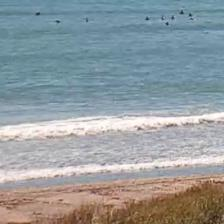surfer: (188, 17, 199, 21), (179, 9, 186, 15), (84, 17, 90, 23), (54, 19, 61, 24), (164, 22, 170, 27), (160, 15, 166, 20), (144, 16, 150, 21), (35, 12, 42, 16), (171, 15, 176, 20), (188, 12, 194, 16)
